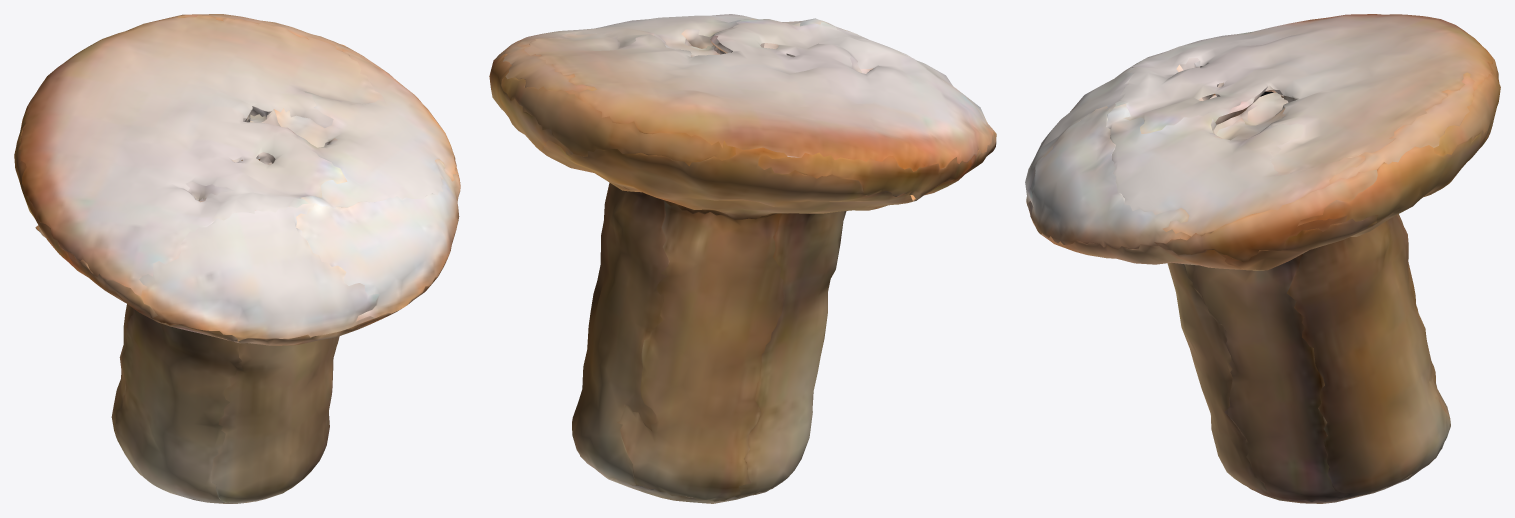
The model's file is 4_chair.glb.
3 views of the same model, side by side, from view 1: azimuth 30°, elevation 25°; view 2: azimuth 150°, elevation 25°; view 3: azimuth 270°, elevation 25° (orthographic). The views are drawn at different scales.
Visible parts, largest first — view 1: 4_chair; view 2: 4_chair; view 3: 4_chair.
Part boxes in pixels (x1=…): 4_chair: x1=14, y1=14, x2=460, y2=503; 4_chair: x1=489, y1=14, x2=996, y2=503; 4_chair: x1=1025, y1=14, x2=1500, y2=503.
Size of the model in its own units: 1.2 by 1.18 by 1.21.
Materials: 1 (1 with a texture image).
